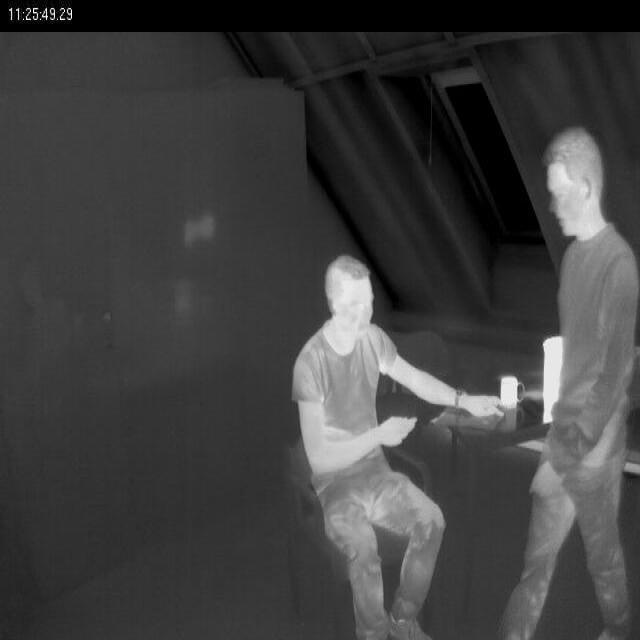person: (291, 252, 490, 640), (506, 99, 638, 638)
